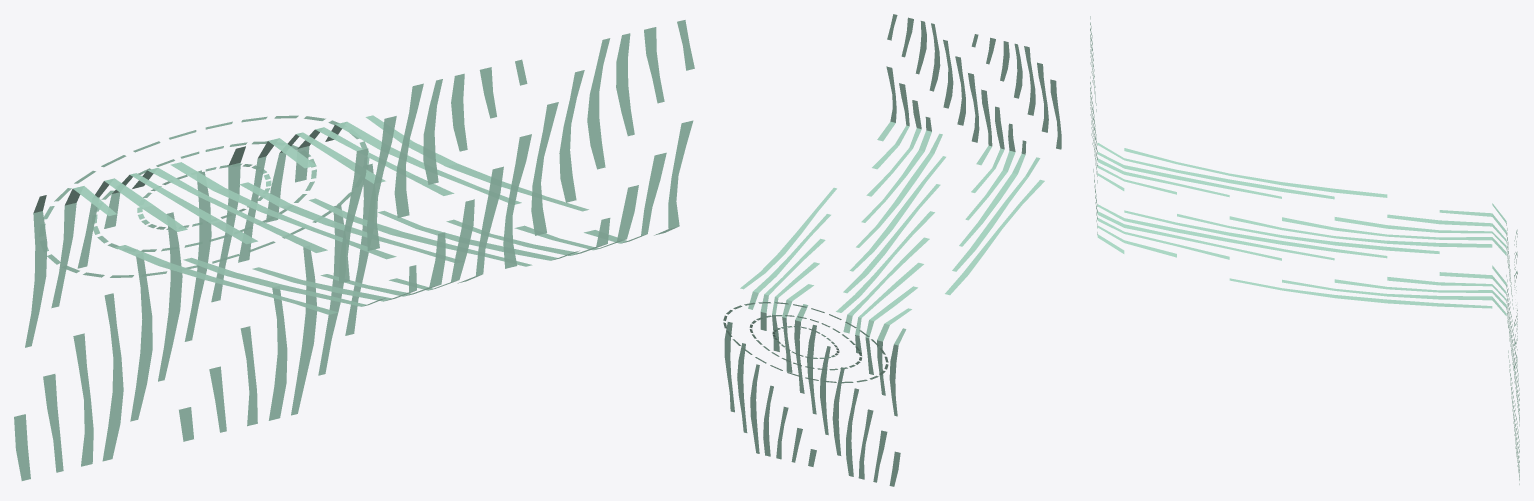
Rendered from CascadeFoam.obj.
3 renders of one model, left to right at view 1: azimuth 30°, elevation 25°; view 2: azimuth 150°, elevation 25°; view 3: azimuth 270°, elevation 25°, orthographic. The views are drawn at different scales.
Visible parts, largest first — view 1: CascadeFoam; view 2: CascadeFoam; view 3: CascadeFoam.
Boxes of the visible parts, x1,y1,x2,y2 form: CascadeFoam: (14, 20, 694, 480); CascadeFoam: (723, 14, 1061, 486); CascadeFoam: (1090, 16, 1519, 484).
Size of the model in its own units: 180 by 300 by 289.
